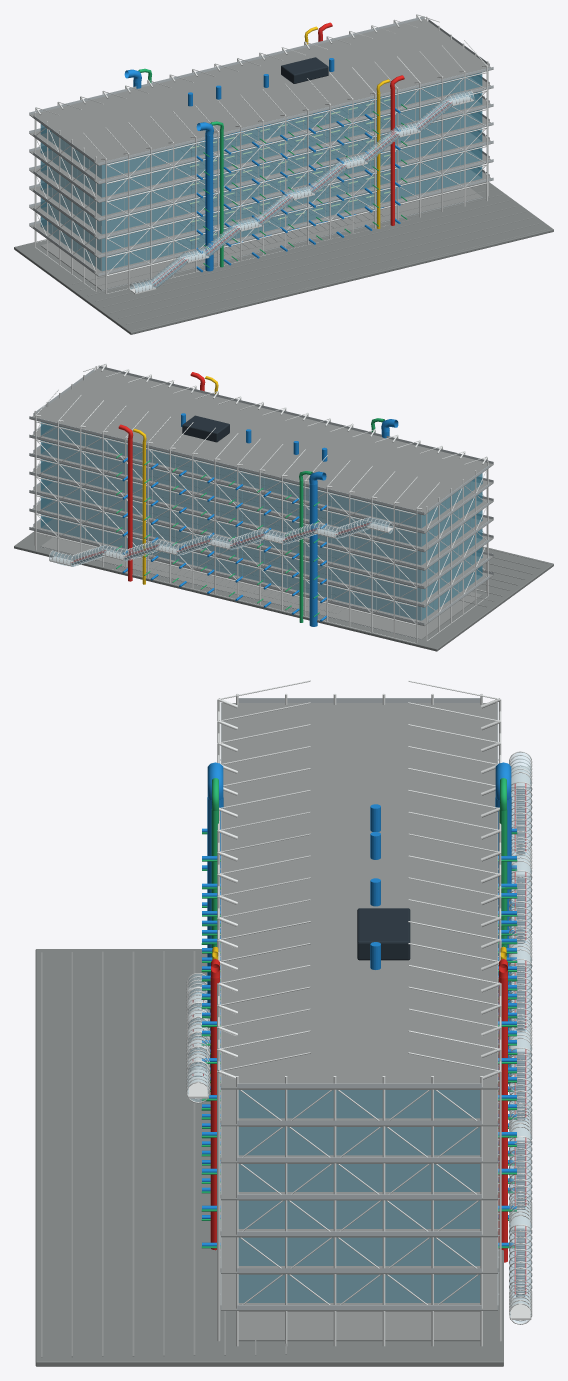
Rendered from centre_pompidou.glb.
3 views of the same model, one above another, from view 1: azimuth 30°, elevation 25°; view 2: azimuth 150°, elevation 25°; view 3: azimuth 270°, elevation 25° (orthographic). The views are drawn at different scales.
Visible parts, largest first — view 1: Web_Concrete, Web_Facade_Glass_Web, Pompidou_Plaza, Web_Structure_White, Web_Facade_Steel, Escalator_Left_Facade_Up_Continuous_Glass_Tube, Web_Air_Blue, Web_Water_Green, Web_Circulation_Red, Roof_Service_Block, Web_Interior_Light, Web_Escalator_Glass_Web (+3 smaller); view 2: Web_Concrete, Web_Facade_Glass_Web, Web_Structure_White, Web_Facade_Steel, Pompidou_Plaza, Escalator_Right_Facade_Up_Continuous_Glass_Tube, Web_Air_Blue, Web_Water_Green, Web_Circulation_Red, Roof_Service_Block, Web_Escalator_Glass_Web, Web_Electrical_Yellow; view 3: Web_Concrete, Pompidou_Plaza, Web_Facade_Glass_Web, Web_Structure_White, Web_Facade_Steel, Escalator_Right_Facade_Up_Continuous_Glass_Tube, Web_Air_Blue, Web_Circulation_Red, Web_Water_Green, Web_Escalator_Tread_Metal, Roof_Service_Block, Web_Escalator_Belt (+1 smaller).
Part boxes in pixels (x1=…): Web_Concrete: x1=29, y1=18, x2=548, y2=330; Web_Facade_Glass_Web: x1=40, y1=72, x2=482, y2=271; Pompidou_Plaza: x1=14, y1=182, x2=553, y2=334; Web_Structure_White: x1=34, y1=14, x2=488, y2=294; Web_Facade_Steel: x1=29, y1=16, x2=493, y2=290; Escalator_Left_Facade_Up_Continuous_Glass_Tube: x1=130, y1=90, x2=473, y2=292; Web_Air_Blue: x1=133, y1=58, x2=400, y2=272; Web_Water_Green: x1=148, y1=78, x2=407, y2=267; Web_Circulation_Red: x1=152, y1=36, x2=451, y2=285; Roof_Service_Block: x1=281, y1=57, x2=328, y2=83; Web_Interior_Light: x1=190, y1=99, x2=390, y2=240; Web_Escalator_Glass_Web: x1=153, y1=102, x2=451, y2=287; Web_Concrete: x1=29, y1=368, x2=548, y2=639; Web_Facade_Glass_Web: x1=40, y1=422, x2=482, y2=620; Web_Structure_White: x1=34, y1=363, x2=488, y2=643; Web_Facade_Steel: x1=29, y1=365, x2=493, y2=639; Pompidou_Plaza: x1=14, y1=531, x2=553, y2=651; Escalator_Right_Facade_Up_Continuous_Glass_Tube: x1=49, y1=517, x2=392, y2=566; Web_Air_Blue: x1=122, y1=413, x2=389, y2=626; Web_Water_Green: x1=116, y1=428, x2=375, y2=622; Web_Circulation_Red: x1=71, y1=386, x2=370, y2=581; Roof_Service_Block: x1=182, y1=415, x2=229, y2=442; Web_Escalator_Glass_Web: x1=71, y1=524, x2=369, y2=565; Web_Electrical_Yellow: x1=142, y1=389, x2=217, y2=584; Web_Concrete: x1=41, y1=703, x2=497, y2=1357; Pompidou_Plaza: x1=35, y1=949, x2=503, y2=1366; Web_Facade_Glass_Web: x1=238, y1=1090, x2=480, y2=1302; Web_Structure_White: x1=186, y1=680, x2=532, y2=1346; Web_Facade_Steel: x1=220, y1=698, x2=499, y2=1309; Escalator_Right_Facade_Up_Continuous_Glass_Tube: x1=509, y1=752, x2=531, y2=1323; Web_Air_Blue: x1=202, y1=797, x2=516, y2=1246; Web_Circulation_Red: x1=192, y1=783, x2=526, y2=1293; Web_Water_Green: x1=201, y1=809, x2=517, y2=1248; Web_Escalator_Tread_Metal: x1=194, y1=786, x2=524, y2=1298; Roof_Service_Block: x1=357, y1=908, x2=410, y2=960; Web_Escalator_Belt: x1=516, y1=789, x2=525, y2=1296.
Bounding box in the file's own units: 240 × 83.96 × 122.
